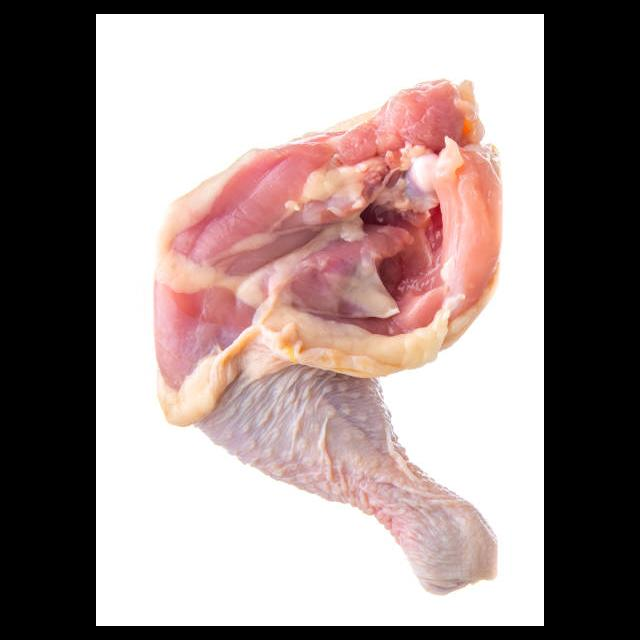chicken: (151, 74, 510, 598)
